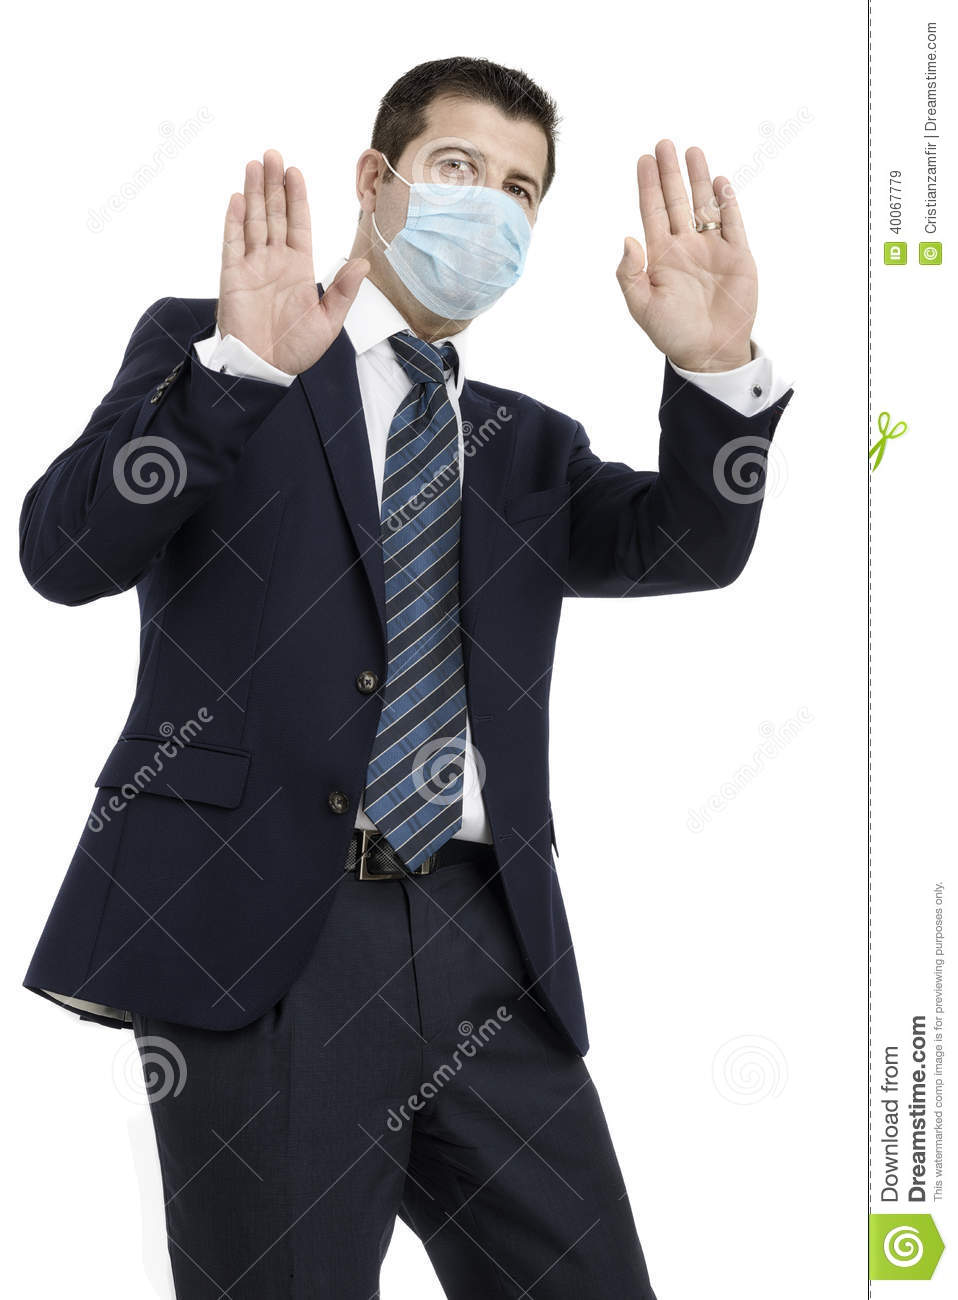mask: (383, 182, 532, 321)
